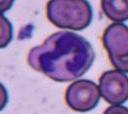N: (28, 31, 94, 82)
